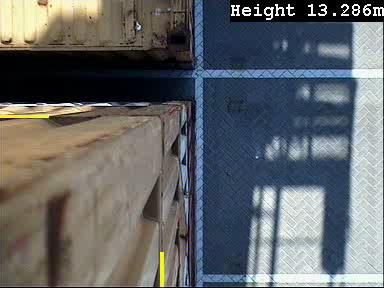groundmarker_2: (201, 169, 235, 225), (201, 1, 232, 48)
